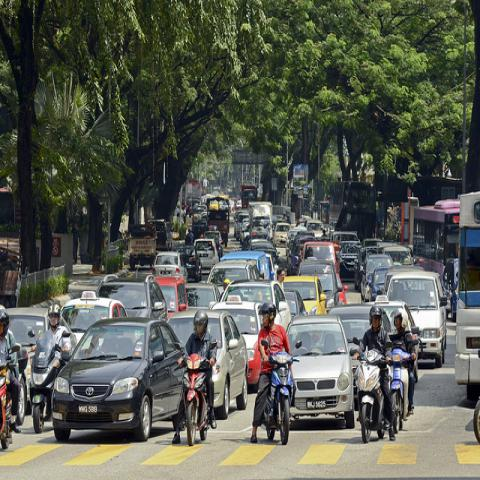bus: (454, 192, 480, 386), (414, 199, 460, 281)
car: (62, 182, 476, 404), (51, 318, 185, 446), (168, 309, 248, 421), (286, 313, 356, 429), (386, 269, 449, 365), (6, 308, 50, 422), (210, 293, 264, 385), (60, 292, 132, 344), (221, 279, 292, 327), (370, 295, 420, 356), (295, 261, 345, 311), (207, 260, 261, 296), (284, 274, 328, 313), (186, 283, 222, 312)
motorcycle: (28, 330, 71, 434), (356, 338, 394, 445), (175, 352, 210, 446), (390, 341, 412, 431), (265, 354, 298, 408), (1, 359, 18, 448)
truck: (298, 239, 340, 276), (129, 222, 157, 270), (207, 197, 230, 247), (249, 202, 273, 239), (148, 218, 174, 252), (240, 186, 257, 209)
